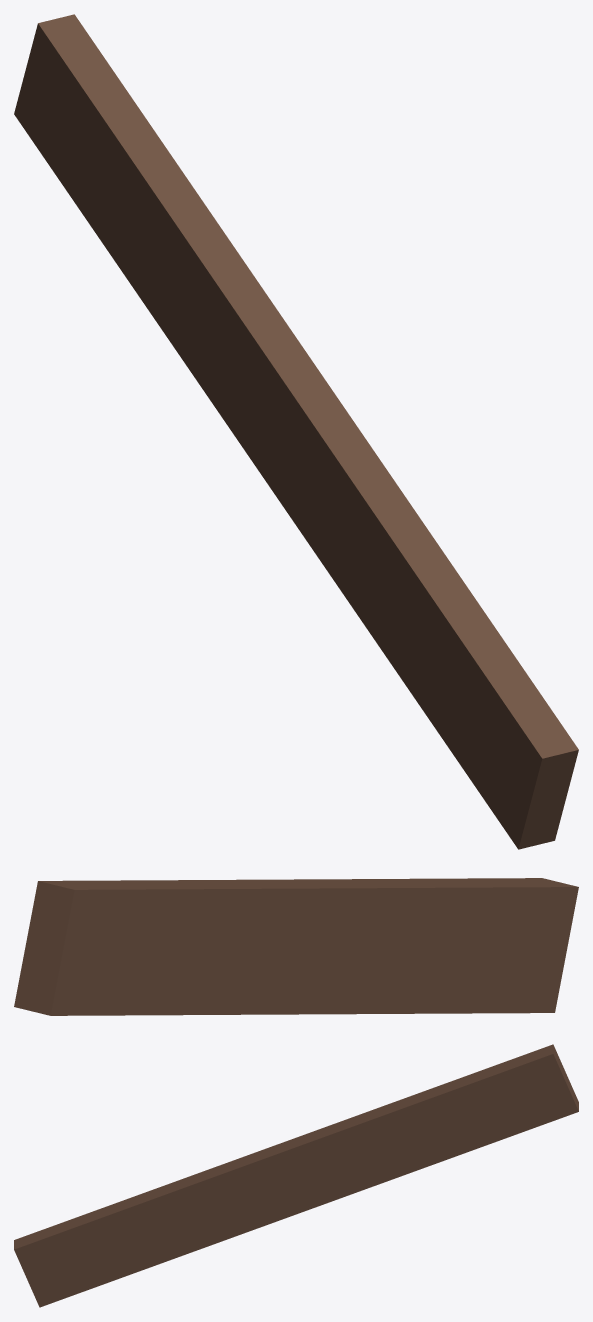
3 views of the same model, one above another, from view 1: azimuth 30°, elevation 25°; view 2: azimuth 150°, elevation 25°; view 3: azimuth 270°, elevation 25° (orthographic). The views are drawn at different scales.
Visible parts, largest first — view 1: Cube.021; view 2: Cube.021; view 3: Cube.021.
Part boxes in pixels (bbox=[...]): Cube.021: bbox=[14, 14, 578, 849]; Cube.021: bbox=[14, 878, 578, 1015]; Cube.021: bbox=[14, 1044, 578, 1307].
Bounding box in the file's own units: 0.0392 × 0.4855 × 0.9793.
